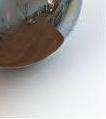ironball: (0, 0, 85, 71)
